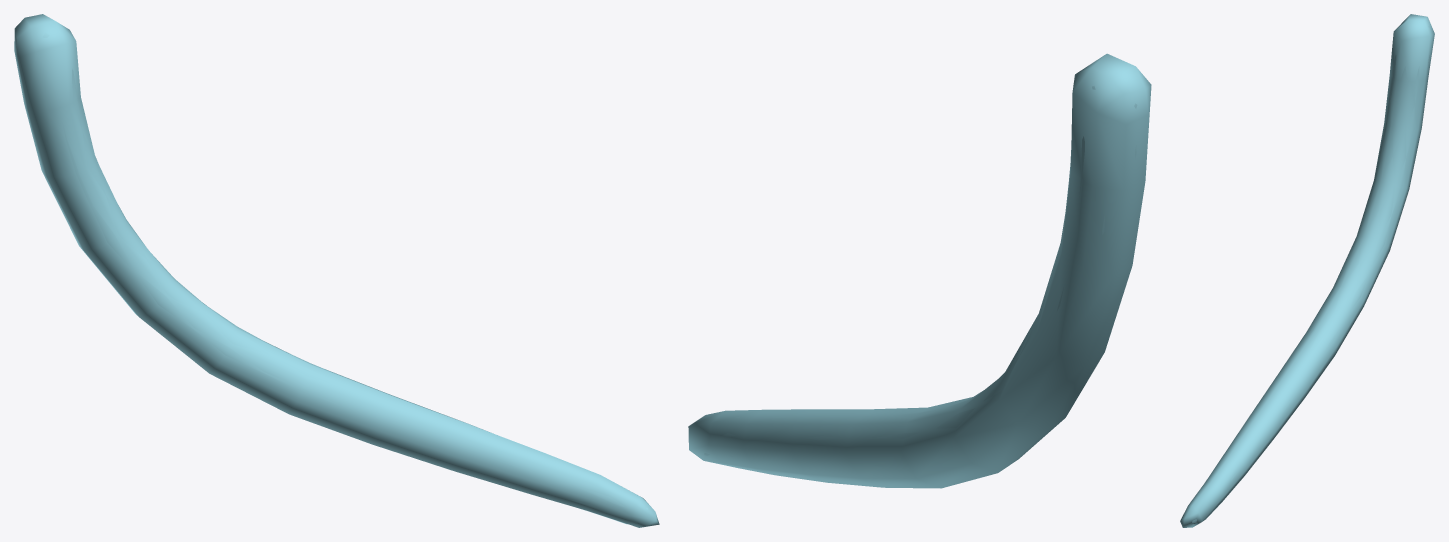
The picture shows the model from 3 angles, left to right: view 1: azimuth 30°, elevation 25°; view 2: azimuth 150°, elevation 25°; view 3: azimuth 270°, elevation 25°; orthographic projection. The views are drawn at different scales.
Visible parts, largest first — view 1: CC R7 low, CC R7; view 2: CC R7 low, CC R7; view 3: CC R7 low, CC R7.
Boxes of the visible parts, left/top/right/bottom form: CC R7 low: left=14, top=14, right=659, bottom=527; CC R7: left=16, top=32, right=647, bottom=523; CC R7 low: left=688, top=53, right=1151, bottom=488; CC R7: left=704, top=86, right=1137, bottom=476; CC R7 low: left=1180, top=14, right=1434, bottom=527; CC R7: left=1186, top=22, right=1429, bottom=524.
Size of the model in its own units: 2.71 by 2.7 by 1.75.
